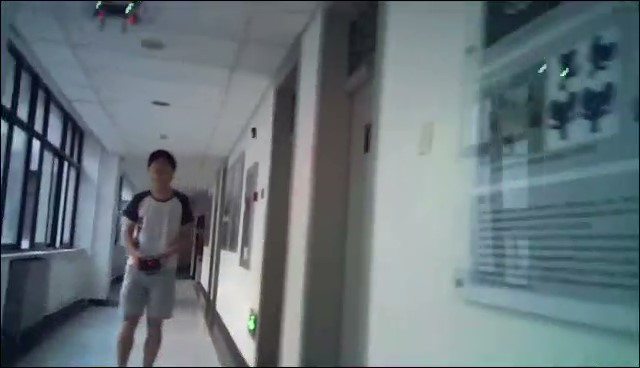drone: (76, 1, 158, 33)
person: (114, 147, 195, 368)
